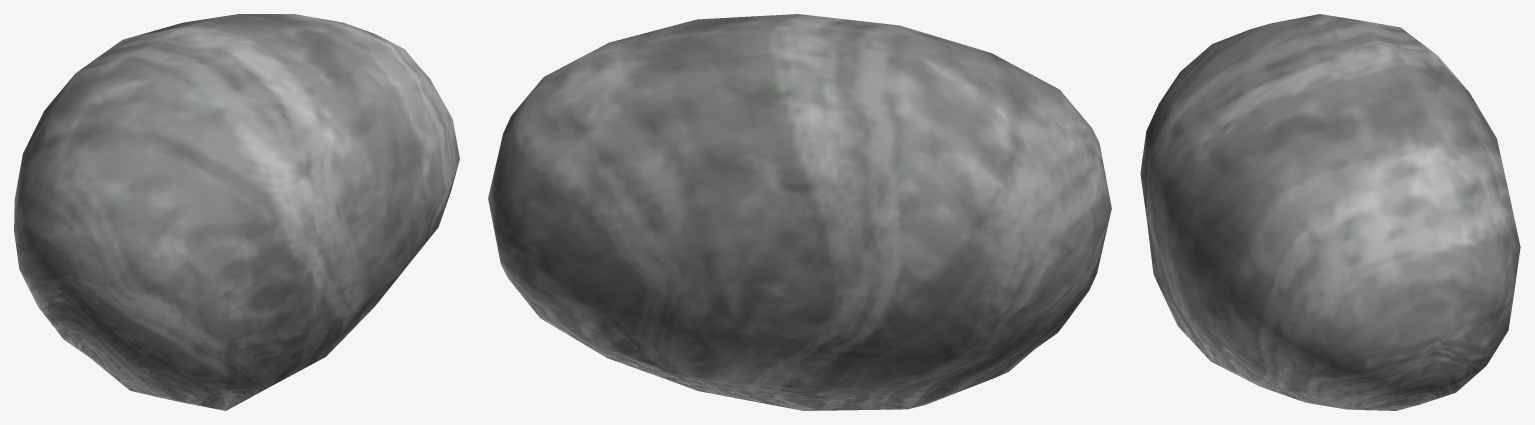
Rendered from Potato_Item (5).fbx.
3 views of the same model, side by side, from view 1: azimuth 30°, elevation 25°; view 2: azimuth 150°, elevation 25°; view 3: azimuth 270°, elevation 25° (orthographic). The views are drawn at different scales.
Parts seen in each view (by area): view 1: Potato; view 2: Potato; view 3: Potato.
Part boxes in pixels (x1,y1,x2,y2): Potato: (14, 14, 459, 410); Potato: (488, 14, 1111, 410); Potato: (1140, 14, 1520, 410).
Size of the model in its own units: 0.6101 by 0.4146 by 0.4387.
